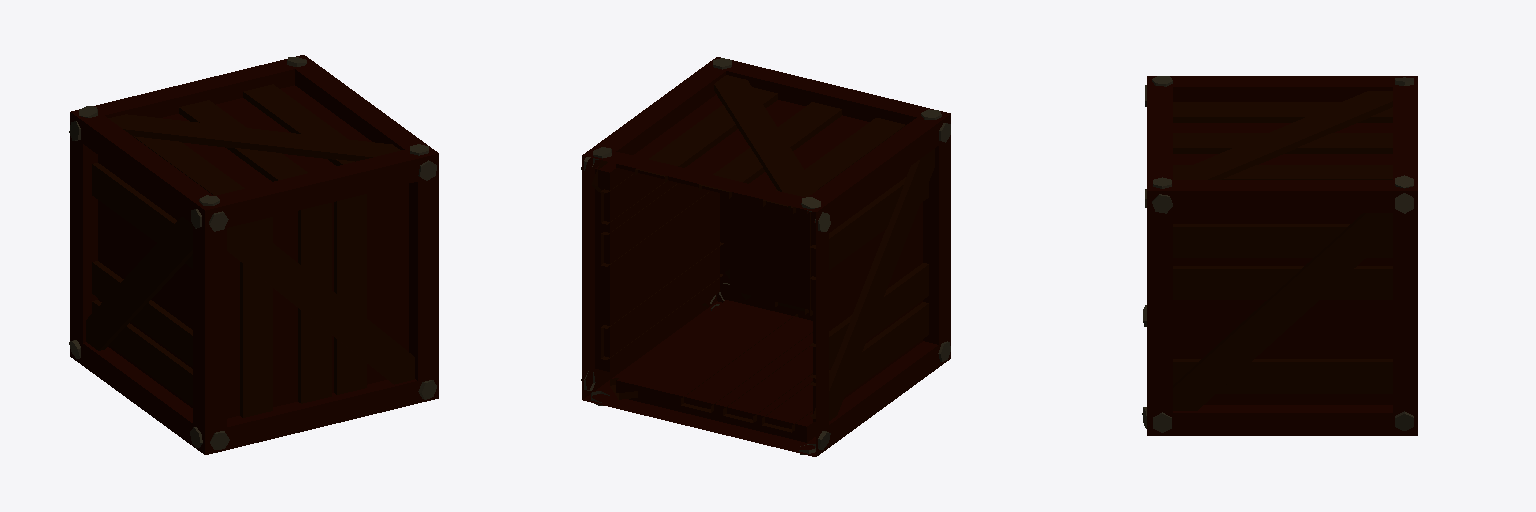
File: CrateExtra001.obj
The picture shows the model from 3 angles: view 1: azimuth 30°, elevation 25°; view 2: azimuth 150°, elevation 25°; view 3: azimuth 270°, elevation 25°; orthographic projection.
Parts seen in each view (by area): view 1: Box001, Box016, Box021, Box002, Box022, Box003, Box017, Box005, Box004, Box020, Box018, Box019 (+3 smaller); view 2: Box006, Box011, Box016, Box021, Box001, Box017, Box022, Box018, Box020, Box025, Box023, Box019 (+1 smaller); view 3: Box006, Box021, Box007, Box010, Box009, Box008, Box022, Box024, Box023, Box025.
Part boxes in pixels (x1,y1,x2,y2): Box001: (205,154,438,454); Box016: (70,112,204,454); Box021: (71,55,438,210); Box002: (227,223,414,384); Box022: (108,114,400,161); Box003: (298,203,331,403); Box017: (86,217,192,350); Box005: (240,217,272,417); Box004: (334,194,366,394); Box020: (92,163,192,268); Box018: (92,300,192,405); Box019: (92,261,192,366); Box006: (582,155,719,399); Box011: (583,300,815,456); Box016: (813,114,950,456); Box021: (583,57,950,213); Box001: (717,193,815,320); Box017: (812,149,934,420); Box022: (714,75,816,210); Box018: (810,302,928,416); Box020: (810,177,928,279); Box025: (635,87,777,182); Box023: (699,102,841,198); Box019: (810,263,928,378); Box006: (1147,191,1417,435); Box021: (1147,76,1417,190); Box007: (1173,213,1392,410); Box010: (1173,359,1392,393); Box009: (1173,224,1392,257); Box008: (1173,266,1392,299); Box022: (1173,91,1392,179); Box024: (1173,102,1392,122); Box023: (1173,133,1392,153); Box025: (1173,165,1392,179).
Size of the model in its own units: 16.61 by 16.61 by 16.31.